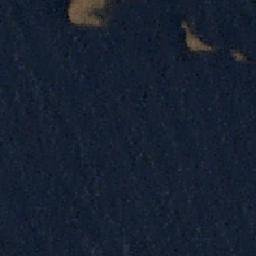debris: (67, 1, 106, 28), (183, 25, 197, 46), (192, 36, 210, 51), (232, 49, 244, 61)
